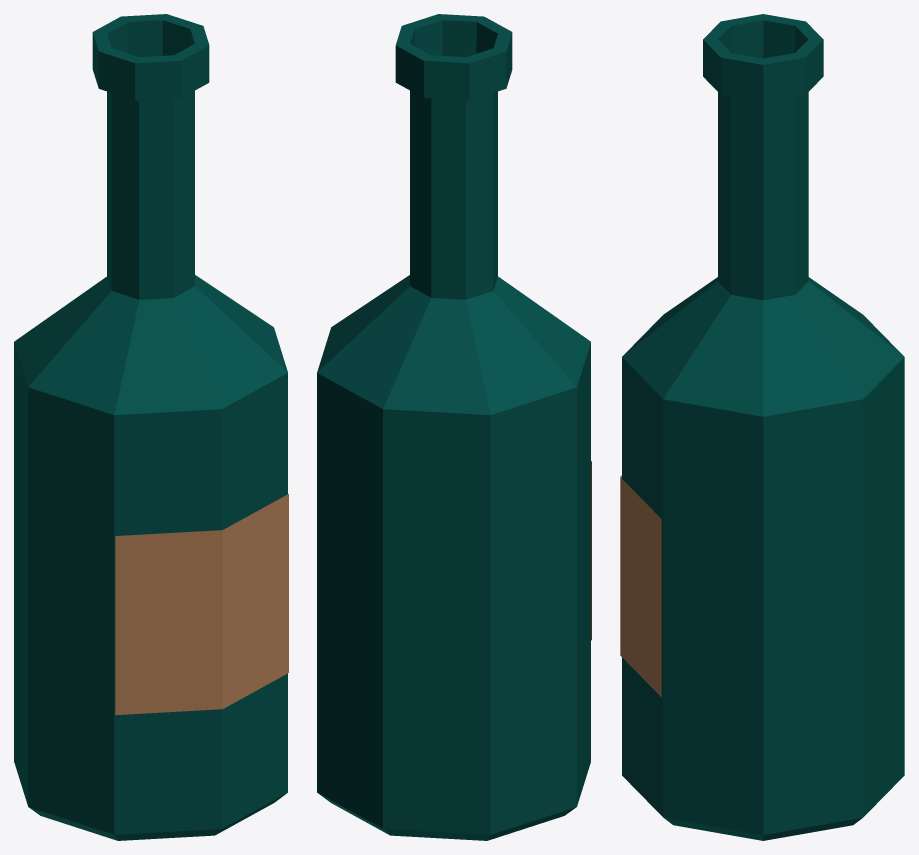
Rendered from Bottle_7.fbx.
The picture shows the model from 3 angles, left to right: view 1: azimuth 30°, elevation 25°; view 2: azimuth 150°, elevation 25°; view 3: azimuth 270°, elevation 25°; orthographic projection.
Visible parts, largest first — view 1: Bottle_7; view 2: Bottle_7; view 3: Bottle_7.
Boxes of the visible parts, bbox=[...] form: Bottle_7: bbox=[14, 14, 288, 840]; Bottle_7: bbox=[317, 14, 591, 840]; Bottle_7: bbox=[620, 14, 904, 840].
Size of the model in its own units: 14.66 by 14.74 by 42.75.
